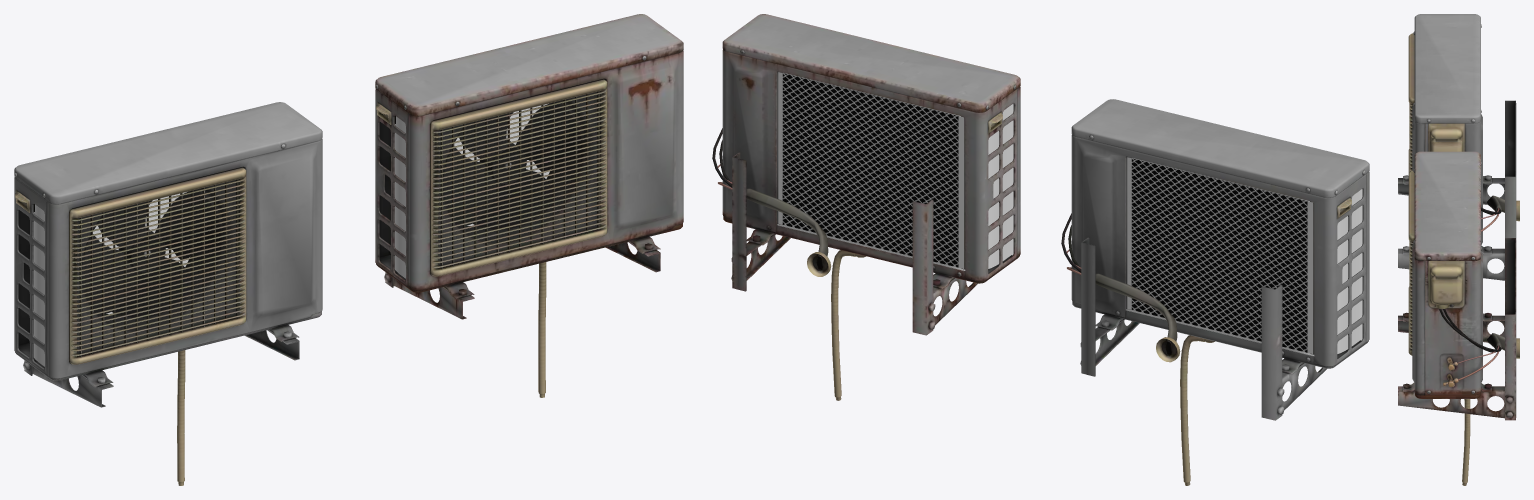
Rendered from exterior_aircon_unit.glb.
3 renders of one model, left to right at view 1: azimuth 30°, elevation 25°; view 2: azimuth 150°, elevation 25°; view 3: azimuth 270°, elevation 25°, orthographic. The views are drawn at different scales.
Parts seen in each view (by area): view 1: exterior_aircon_unit_rusted, exterior_aircon_unit; view 2: exterior_aircon_unit, exterior_aircon_unit_rusted; view 3: exterior_aircon_unit_rusted, exterior_aircon_unit.
Part boxes in pixels (bbox=[...]): exterior_aircon_unit_rusted: bbox=[375, 14, 683, 397]; exterior_aircon_unit: bbox=[14, 102, 322, 485]; exterior_aircon_unit: bbox=[1061, 99, 1369, 485]; exterior_aircon_unit_rusted: bbox=[712, 14, 1020, 400]; exterior_aircon_unit_rusted: bbox=[1398, 151, 1519, 485]; exterior_aircon_unit: bbox=[1398, 14, 1519, 280].
Size of the model in its own units: 1.8 by 0.9279 by 0.3742.
4 materials, 4 textured.
